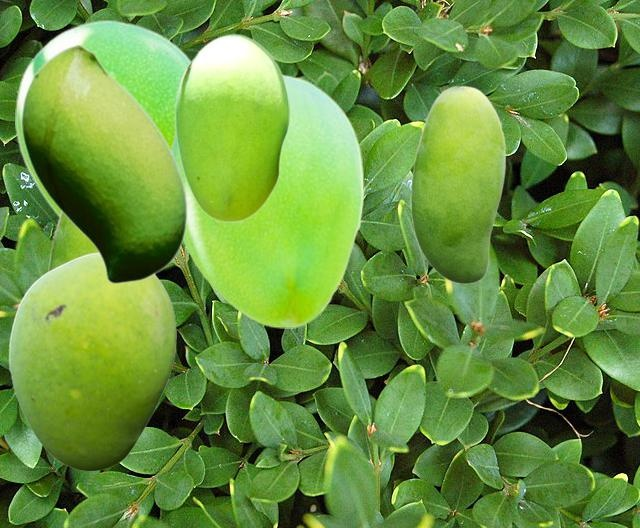green_mango: (169, 71, 363, 327), (20, 43, 186, 283), (8, 251, 175, 470), (15, 19, 191, 218), (174, 33, 289, 221), (410, 85, 505, 283), (47, 212, 96, 270)
